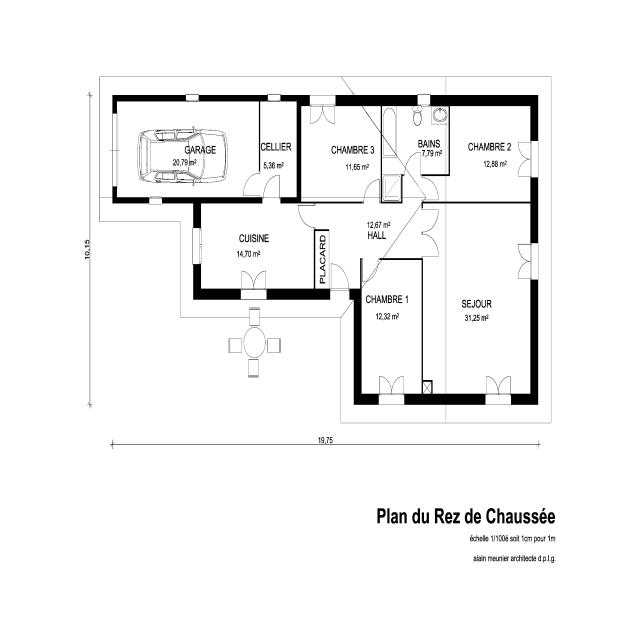door: (323, 269, 355, 310), (417, 211, 447, 249), (510, 244, 541, 276), (301, 101, 343, 124), (370, 376, 414, 397), (476, 376, 522, 396), (398, 150, 427, 180), (518, 142, 540, 177), (257, 176, 287, 200), (232, 271, 277, 287), (356, 259, 386, 280), (294, 206, 322, 226), (238, 176, 265, 195), (360, 181, 384, 200)
window: (110, 112, 119, 186), (188, 231, 205, 264), (410, 94, 438, 104), (261, 94, 287, 104), (142, 196, 170, 205), (179, 94, 206, 102)
zone: (446, 202, 532, 394), (115, 101, 261, 196), (202, 203, 316, 290), (362, 258, 423, 394), (304, 103, 382, 202), (450, 106, 531, 201), (318, 202, 446, 259), (382, 104, 448, 202), (261, 101, 297, 195)
